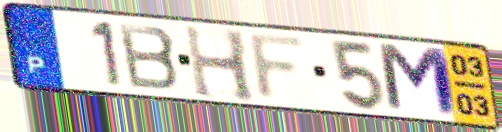1: (89, 19, 125, 89)
5: (325, 39, 390, 113)
B: (115, 21, 183, 93)
F: (247, 31, 310, 104)
H: (181, 22, 259, 104)
M: (373, 40, 463, 121)
